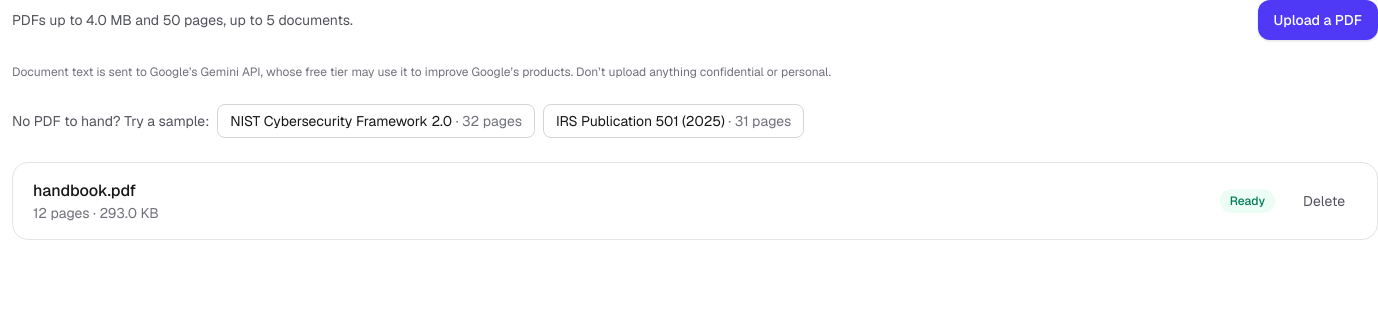
Scenario: DocumentLibrary — delete › keeps the document and explains when deleting fails
The image size is (1378, 327).
What coordinates should you click on to do the following:
click the button "Delete"
I would click on:
 (1324, 201)
Its box is [1291,185,1357,217].
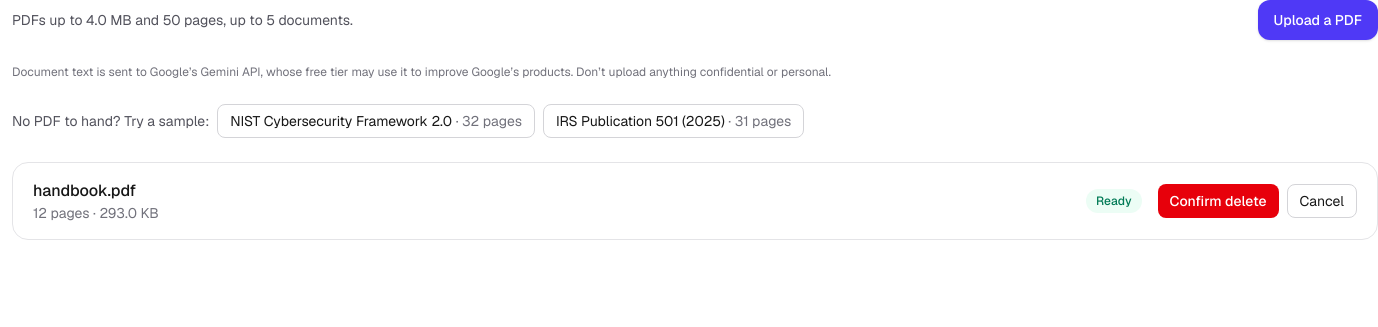
What coordinates should you click on to do the following:
click the button "Confirm delete"
I would click on:
 (1218, 201)
Its box is [1158,184,1278,218].
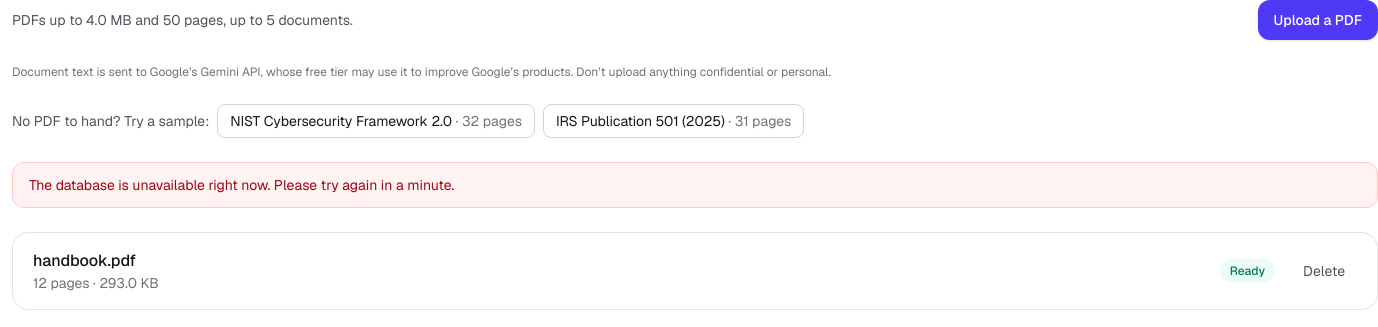
Expected: the link "handbook.pdf" is shown, [33,250,136,271]
Expected: the message shows "database is unavailable", [29,176,454,194]
